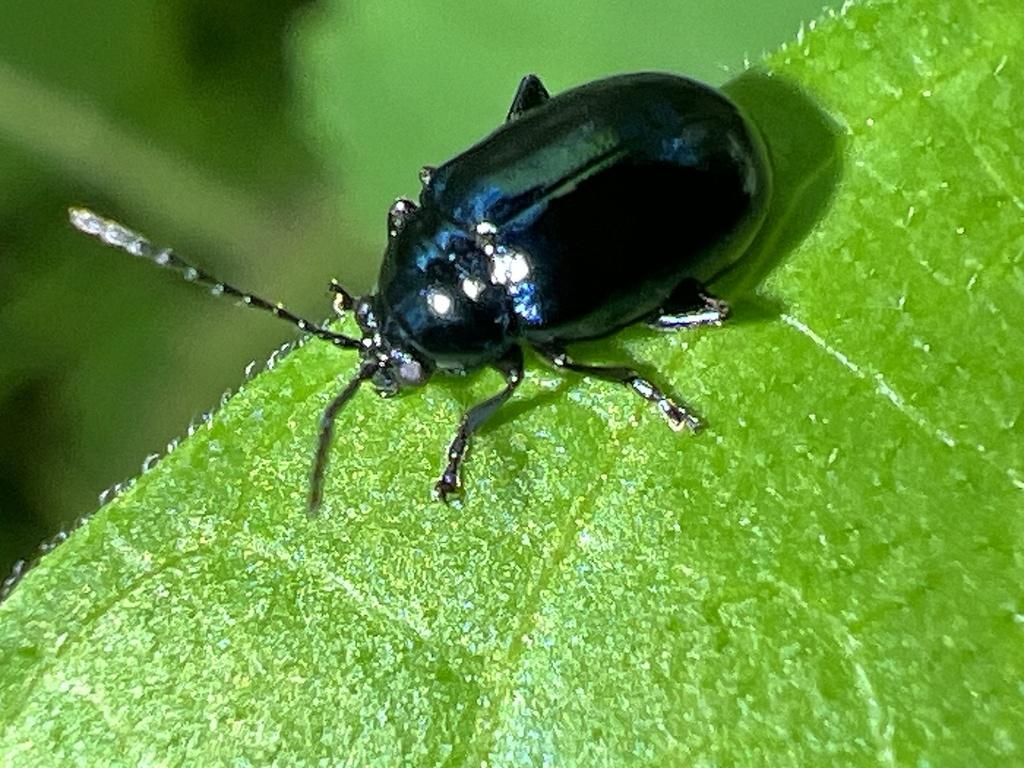flea_beetle: (26, 44, 936, 563)
